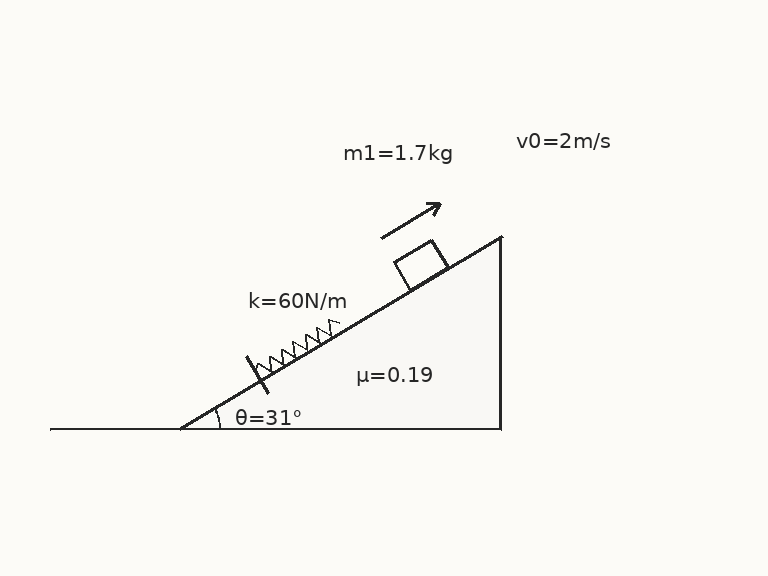block: (392, 237, 450, 292)
ramp: (178, 233, 503, 430)
spring: (254, 318, 341, 374)
